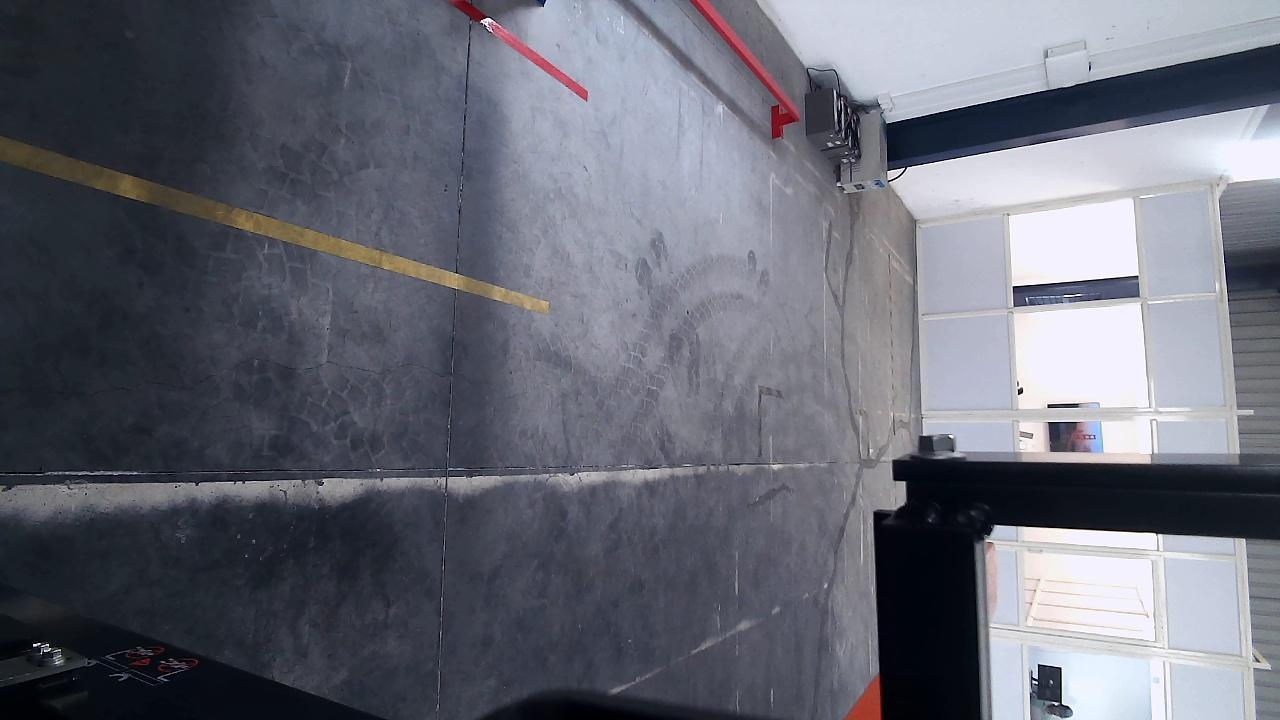red_line: (450, 0, 591, 106)
yellow_line: (0, 137, 551, 314)
